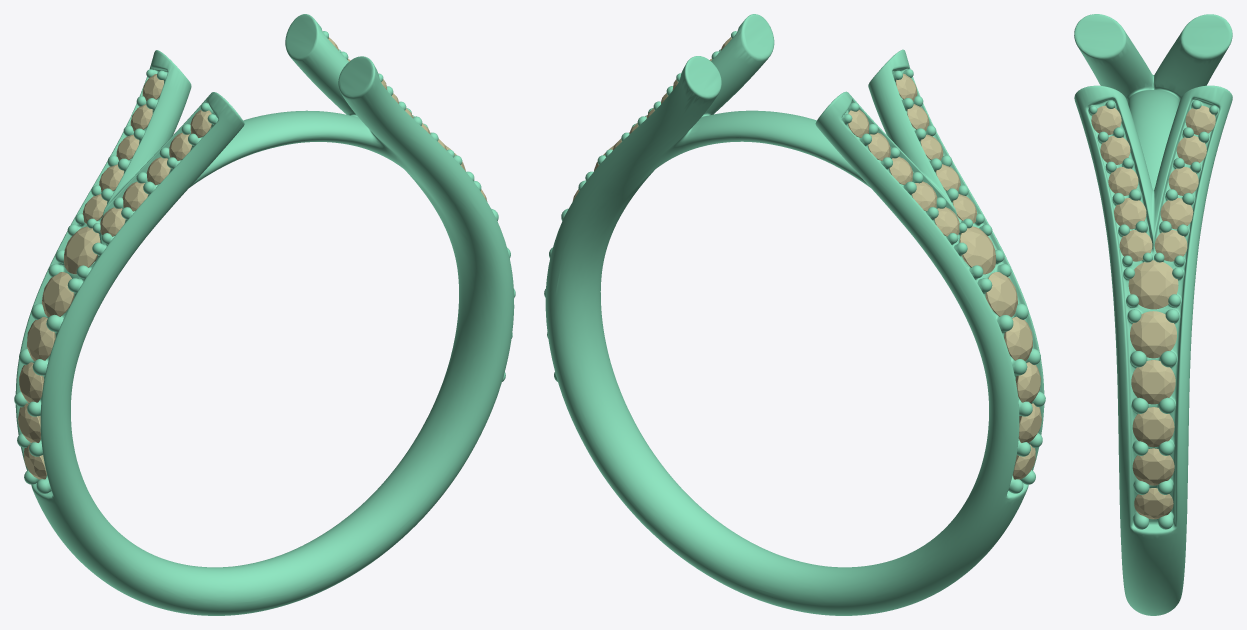
3 renders of one model, left to right at view 1: azimuth 30°, elevation 25°; view 2: azimuth 150°, elevation 25°; view 3: azimuth 270°, elevation 25°, orthographic. The views are drawn at different scales.
Visible parts, largest first — view 1: Metal02, Diamond_Gem.006, Diamond_Gem.005, Diamond_Gem.001, Diamond_Gem.003; view 2: Metal02, Diamond_Gem.006, Diamond_Gem.005, Diamond_Gem.001, Diamond_Gem.003; view 3: Metal02, Diamond_Gem.027, Diamond_Gem.028, Diamond_Gem, Diamond_Gem.030, Diamond_Gem.029, Diamond_Gem.031, Diamond_Gem.020, Diamond_Gem.017, Diamond_Gem.019, Diamond_Gem.018, Diamond_Gem.025 (+5 smaller).
Part boxes in pixels (x1,y1,x2,y2): Metal02: [14, 14, 515, 615]; Diamond_Gem.006: [63, 226, 100, 274]; Diamond_Gem.005: [42, 272, 74, 317]; Diamond_Gem.001: [27, 317, 55, 361]; Diamond_Gem.003: [19, 362, 44, 403]; Metal02: [544, 14, 1045, 615]; Diamond_Gem.006: [959, 226, 995, 274]; Diamond_Gem.005: [985, 272, 1017, 317]; Diamond_Gem.001: [1004, 316, 1032, 361]; Diamond_Gem.003: [1015, 362, 1040, 403]; Metal02: [1074, 14, 1232, 615]; Diamond_Gem.027: [1128, 260, 1178, 309]; Diamond_Gem.028: [1130, 311, 1176, 358]; Diamond_Gem: [1131, 360, 1175, 404]; Diamond_Gem.030: [1132, 407, 1174, 447]; Diamond_Gem.029: [1132, 448, 1174, 485]; Diamond_Gem.031: [1134, 488, 1173, 519]; Diamond_Gem.020: [1119, 230, 1152, 261]; Diamond_Gem.017: [1154, 230, 1187, 261]; Diamond_Gem.019: [1114, 198, 1146, 229]; Diamond_Gem.018: [1160, 198, 1193, 229]; Diamond_Gem.025: [1108, 167, 1138, 195].
Bounding box in the file's own units: 21.01 × 22.77 × 6.06.
